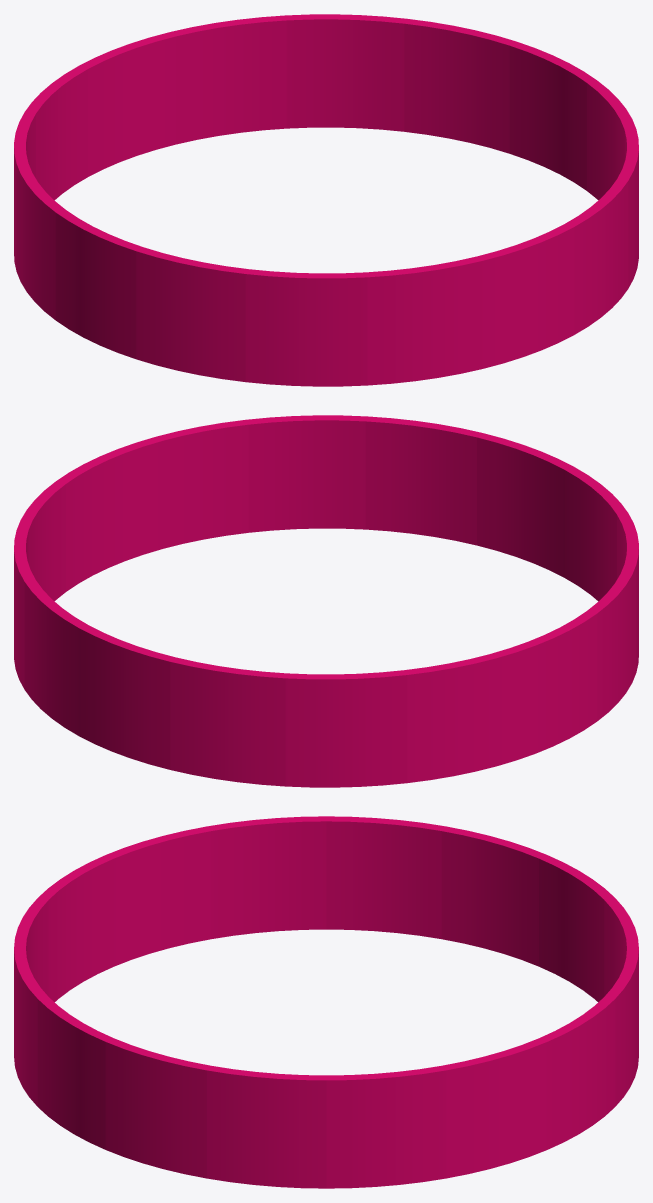
The model's file is Tower_Wall_05.fbx.
The picture shows the model from 3 angles, top to bottom: view 1: azimuth 30°, elevation 25°; view 2: azimuth 150°, elevation 25°; view 3: azimuth 270°, elevation 25°; orthographic projection.
Parts seen in each view (by area): view 1: Tower_Wall_05; view 2: Tower_Wall_05; view 3: Tower_Wall_05.
Part boxes in pixels (x1,y1,x2,y2): Tower_Wall_05: (14,14,638,386); Tower_Wall_05: (14,415,638,787); Tower_Wall_05: (14,816,638,1188).
Bounding box in the file's own units: 1571 × 300 × 1571.
